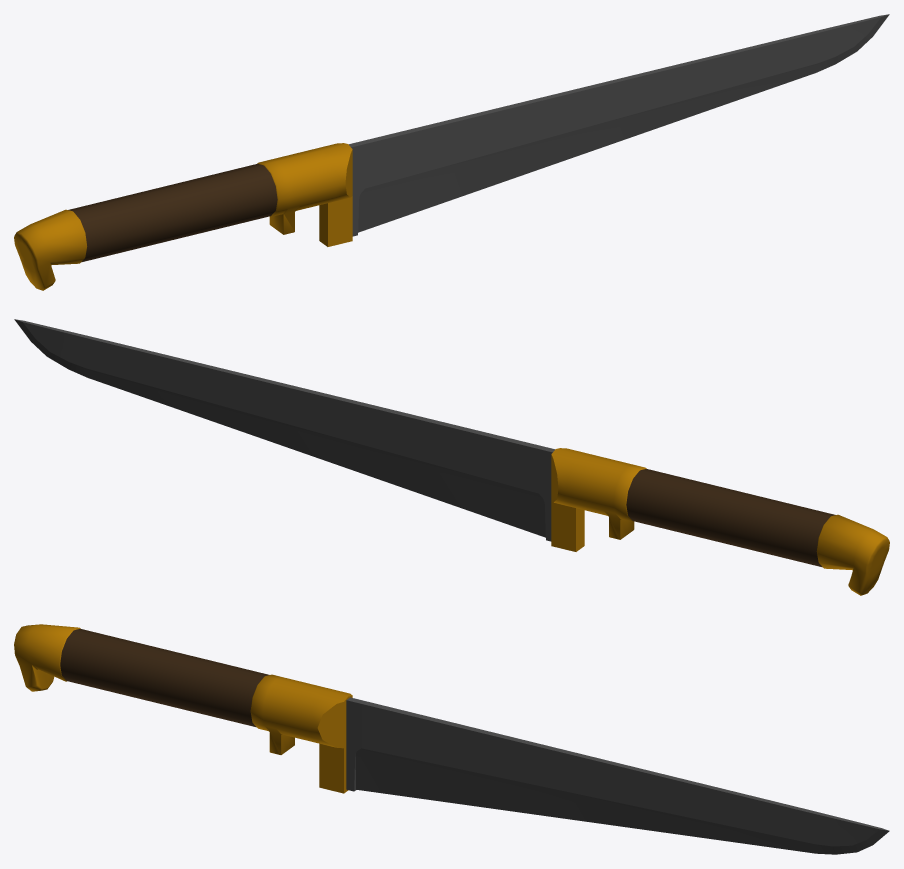
File: assasin sword low poly.fbx
The picture shows the model from 3 angles, top to bottom: view 1: azimuth 30°, elevation 25°; view 2: azimuth 150°, elevation 25°; view 3: azimuth 330°, elevation 25°; orthographic projection.
Visible parts, largest first — view 1: Low; view 2: Low; view 3: Low.
Part boxes in pixels (x1,y1,x2,y2): Low: (14,14,889,290); Low: (14,319,889,595); Low: (14,624,889,854).
Bounding box in the file's own units: 2.96 × 53.07 × 5.48.
Materials: 1 (1 with a texture image).
